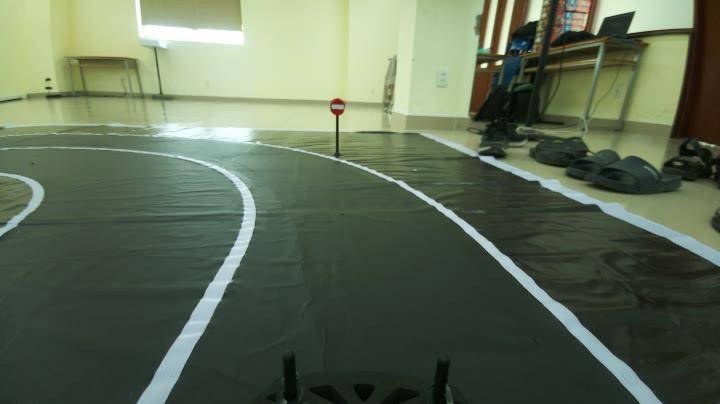no_entry: (326, 94, 349, 118)
